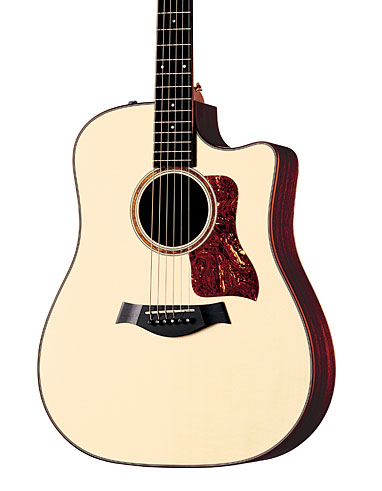guitar: (36, 2, 338, 471)
